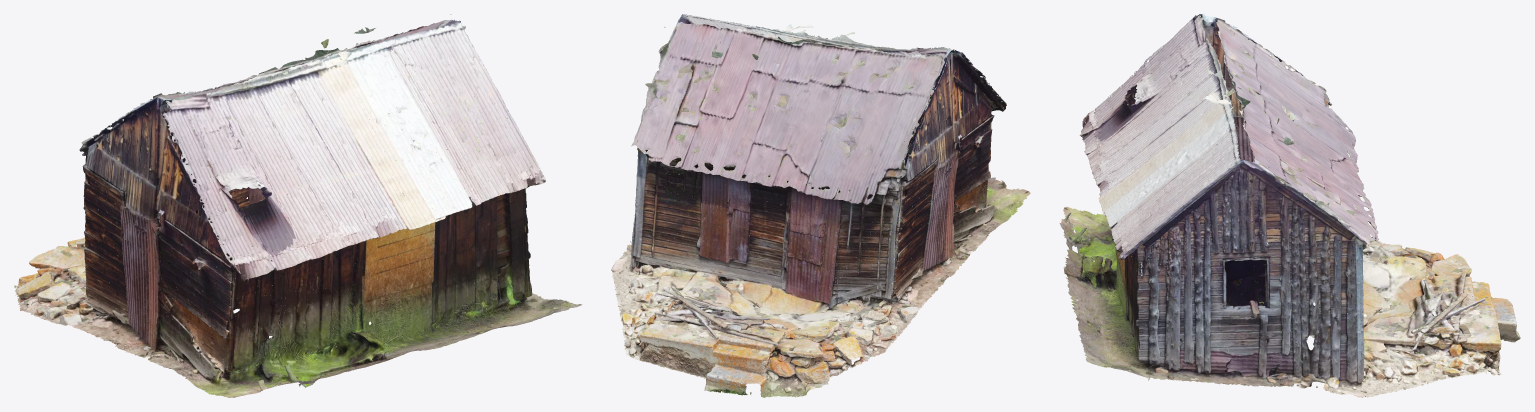
Rendered from the_dorothy_rodgers_cabin..glb.
3 renders of one model, left to right at view 1: azimuth 30°, elevation 25°; view 2: azimuth 150°, elevation 25°; view 3: azimuth 270°, elevation 25°, orthographic. The views are drawn at different scales.
Parts seen in each view (by area): view 1: Stereo textured mesh_Material0_0, Stereo textured mesh_Material1_0, Stereo textured mesh_Material2_0; view 2: Stereo textured mesh_Material0_0, Stereo textured mesh_Material1_0, Stereo textured mesh_Material2_0; view 3: Stereo textured mesh_Material0_0, Stereo textured mesh_Material2_0, Stereo textured mesh_Material1_0.
Part boxes in pixels (x1,y1,x2,y2): Stereo textured mesh_Material0_0: [15, 26, 580, 397]; Stereo textured mesh_Material1_0: [14, 14, 580, 396]; Stereo textured mesh_Material2_0: [17, 14, 582, 394]; Stereo textured mesh_Material0_0: [611, 19, 1030, 394]; Stereo textured mesh_Material1_0: [620, 14, 1026, 397]; Stereo textured mesh_Material2_0: [613, 14, 1016, 397]; Stereo textured mesh_Material0_0: [1059, 15, 1515, 397]; Stereo textured mesh_Material2_0: [1060, 15, 1516, 394]; Stereo textured mesh_Material1_0: [1063, 14, 1520, 390].
Size of the model in its own units: 5.91 by 4.84 by 7.35.
3 materials, 3 textured.
